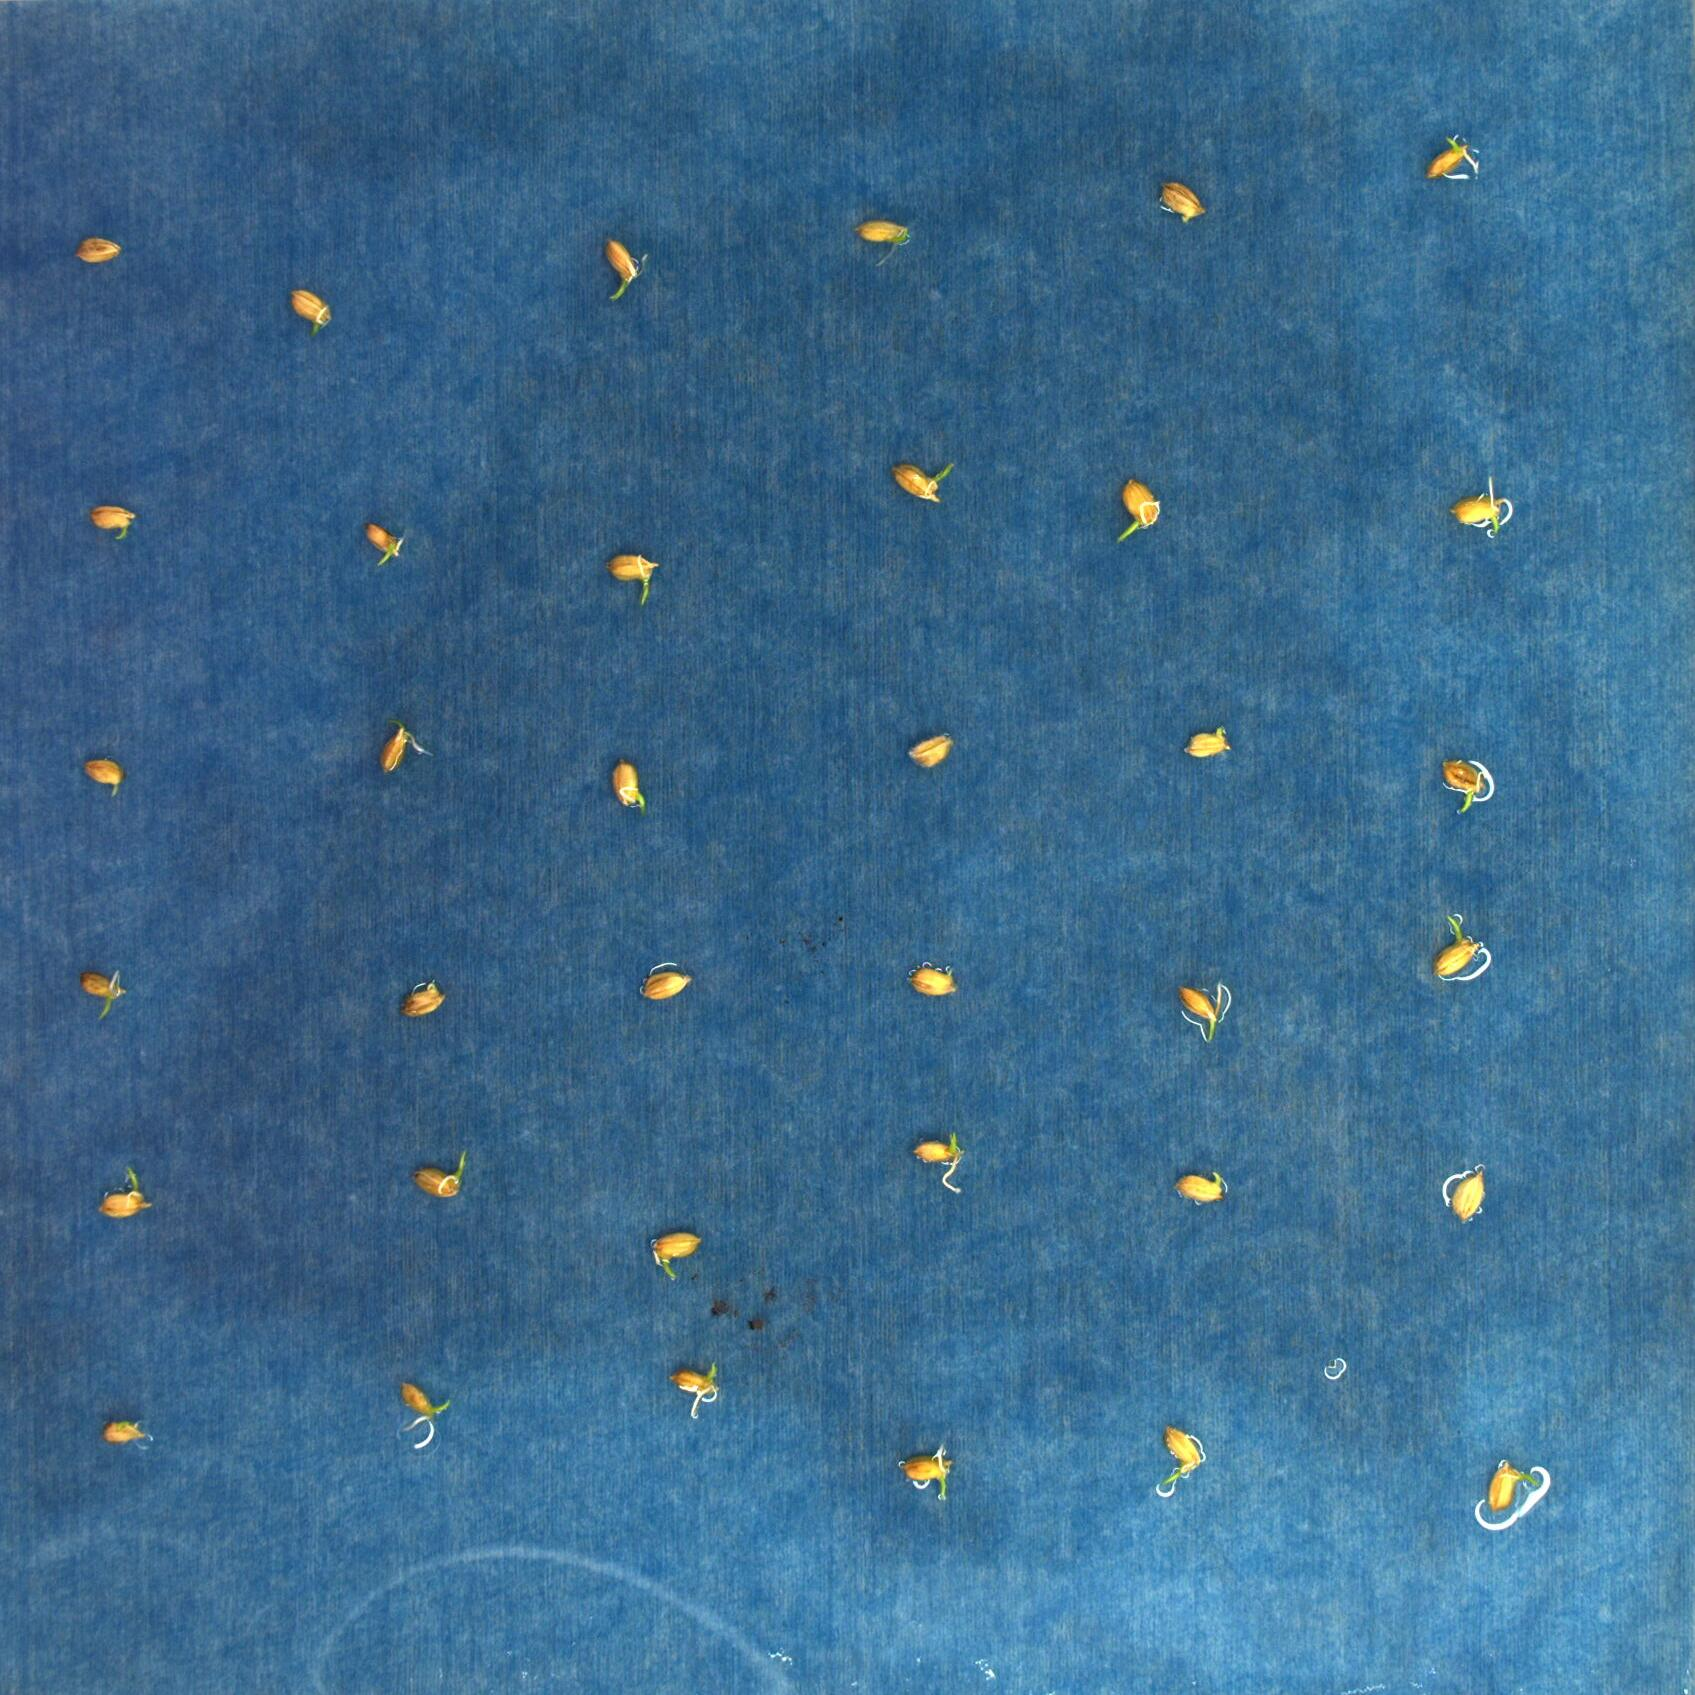not sprout: (1450, 478, 1506, 539), (913, 1128, 962, 1194), (379, 719, 427, 775), (1426, 133, 1482, 179), (1440, 1166, 1485, 1222), (605, 754, 646, 813), (360, 518, 407, 568), (284, 284, 331, 331), (1156, 179, 1205, 224), (1177, 723, 1234, 759), (85, 503, 135, 543), (903, 964, 959, 1000), (629, 970, 695, 1000), (903, 733, 955, 767), (1170, 1172, 1226, 1203), (399, 979, 444, 1014), (75, 231, 120, 264), (84, 757, 121, 795), (99, 1417, 146, 1444)
sprout: (1473, 1453, 1538, 1516), (888, 1437, 953, 1499), (1173, 979, 1231, 1043), (1152, 1426, 1205, 1492), (1428, 913, 1478, 981), (92, 1166, 154, 1218), (393, 1378, 452, 1433), (646, 1228, 702, 1284), (891, 459, 959, 503), (854, 217, 913, 267), (607, 554, 660, 608), (78, 969, 130, 1023), (411, 1147, 467, 1198), (1111, 481, 1161, 539), (1437, 757, 1485, 815), (677, 1360, 719, 1423), (599, 241, 640, 304)
